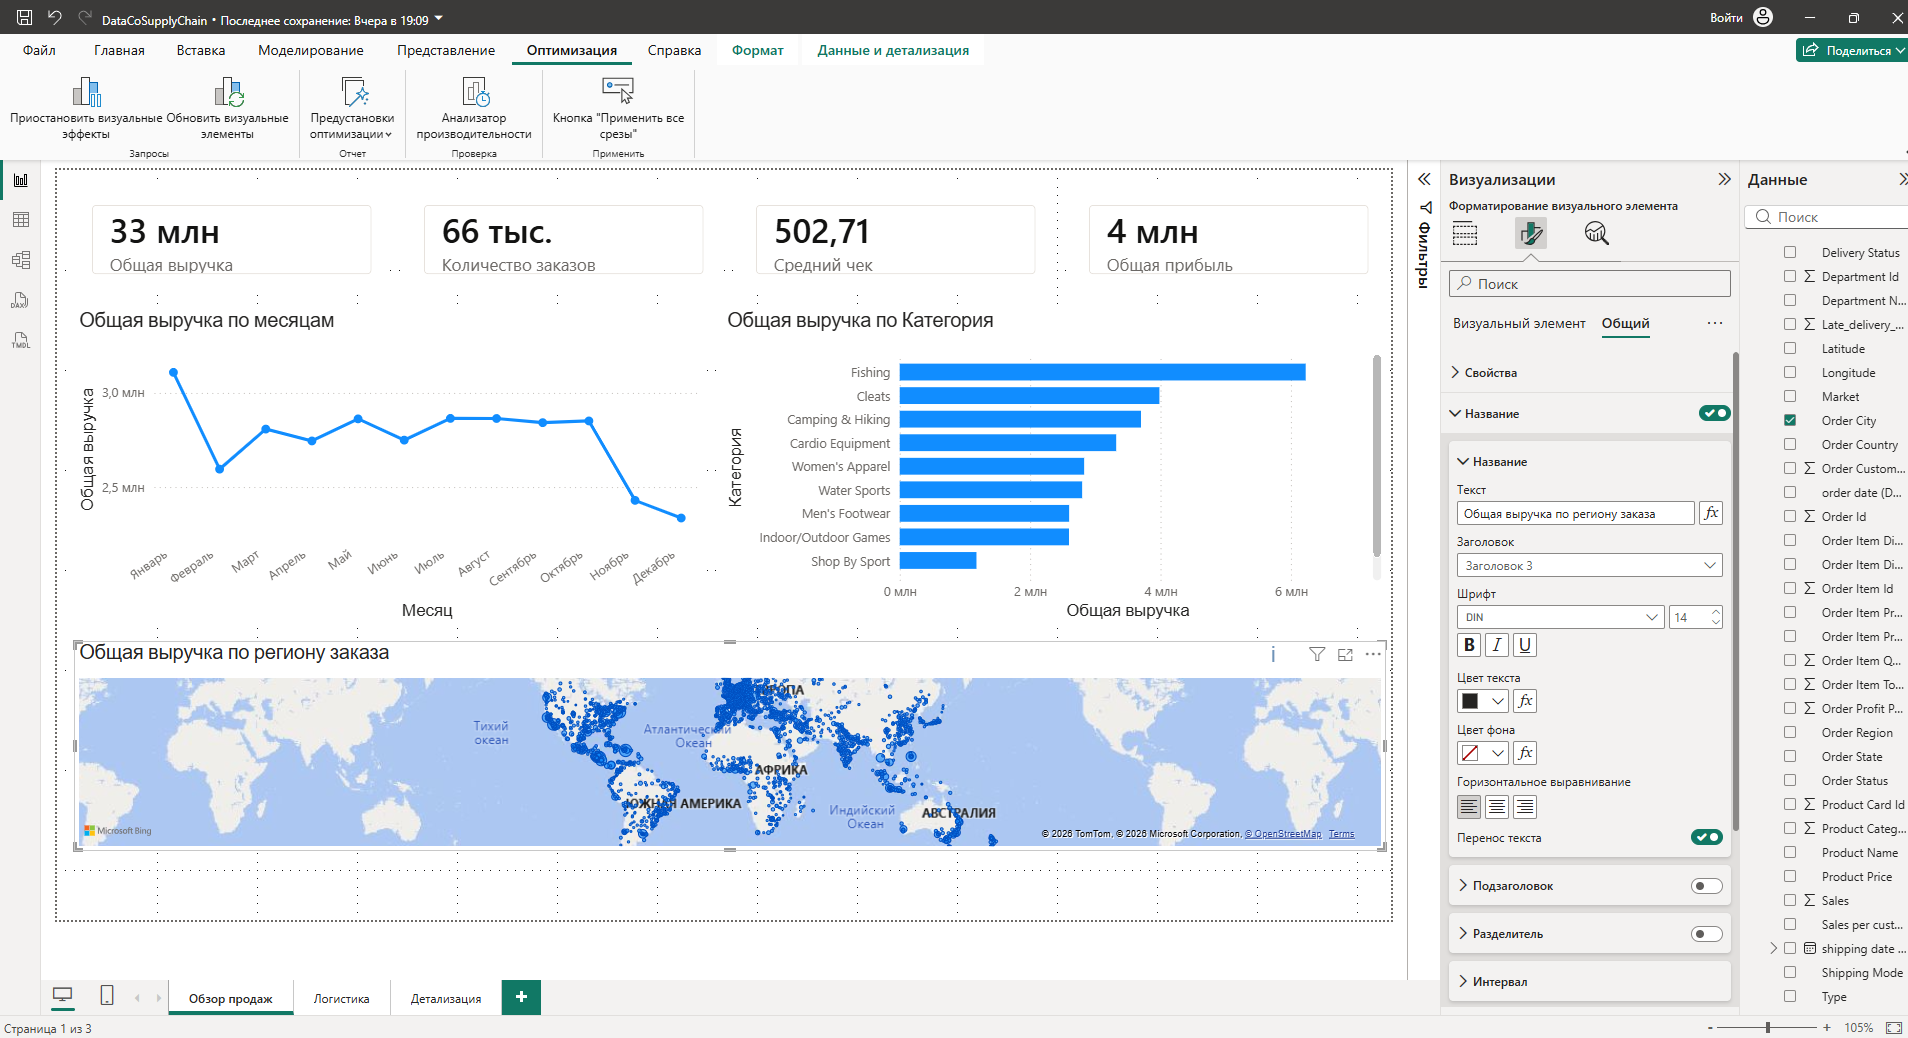

The page's visual inventory and layout, read from the dashboard file:
{"tool":"powerbi","page":{"name":"Обзор продаж","canvas":[1280,720],"ordinal":0},"visuals":[{"type":"cardVisual","fields":{"Data":["DataCoSupplyChainDataset.Общая прибыль"]},"box":[964,16,300,100],"z":0},{"type":"cardVisual","fields":{"Data":["DataCoSupplyChainDataset.Количество заказов"]},"box":[332,16,300,100],"z":1000},{"type":"cardVisual","fields":{"Data":["DataCoSupplyChainDataset.Общая выручка"]},"box":[16,16,300,100],"z":2000},{"type":"cardVisual","fields":{"Data":["DataCoSupplyChainDataset.Средний чек"]},"box":[648,16,300,100],"z":3000},{"type":"lineChart","title":"Общая выручка по месяцам","fields":{"Category":["CalendarTable.Месяц"],"Y":["DataCoSupplyChainDataset.Общая выручка"]},"box":[16,132,600,300],"z":4000},{"type":"clusteredBarChart","fields":{"Category":["DataCoSupplyChainDataset.Category Name"],"Y":["DataCoSupplyChainDataset.Общая выручка"]},"box":[632,132,632,300],"z":5000},{"type":"map","title":"Общая выручка по региону заказа","fields":{"Category":["DataCoSupplyChainDataset.Order City"],"Size":["DataCoSupplyChainDataset.Общая выручка"]},"box":[16,448,1248,200],"z":6000}]}

Visuals, with their boxes on the page's 1280x720 design canvas (x1, y1, x2, y2). These are canvas units, not pixel positions in the 1908x1038 screenshot, which may show the page scaled, cropped or inside an application window:
cardVisual - DataCoSupplyChainDataset.Общая прибыль: (964, 16, 1264, 116)
cardVisual - DataCoSupplyChainDataset.Количество заказов: (332, 16, 632, 116)
cardVisual - DataCoSupplyChainDataset.Общая выручка: (16, 16, 316, 116)
cardVisual - DataCoSupplyChainDataset.Средний чек: (648, 16, 948, 116)
"Общая выручка по месяцам" lineChart: (16, 132, 616, 432)
clusteredBarChart - DataCoSupplyChainDataset.Category Name x DataCoSupplyChainDataset.Общая выручка: (632, 132, 1264, 432)
"Общая выручка по региону заказа" map: (16, 448, 1264, 648)
